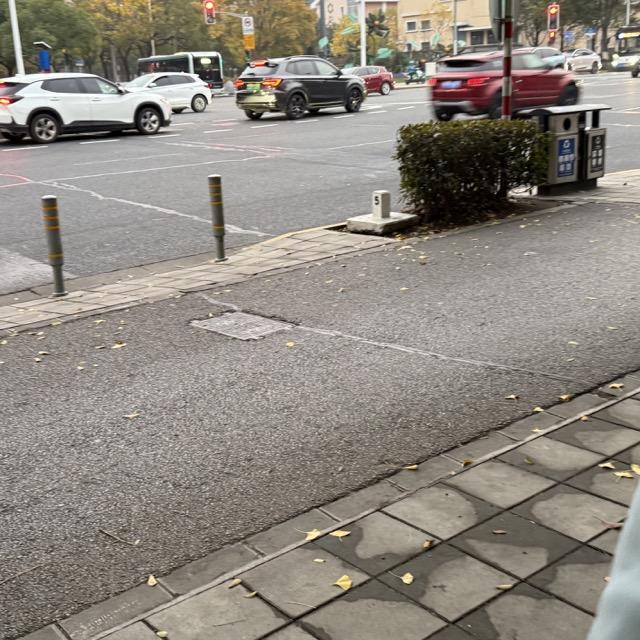curb: (20, 374, 639, 639), (0, 240, 408, 338), (403, 193, 591, 243), (66, 251, 213, 290), (0, 284, 51, 306)
